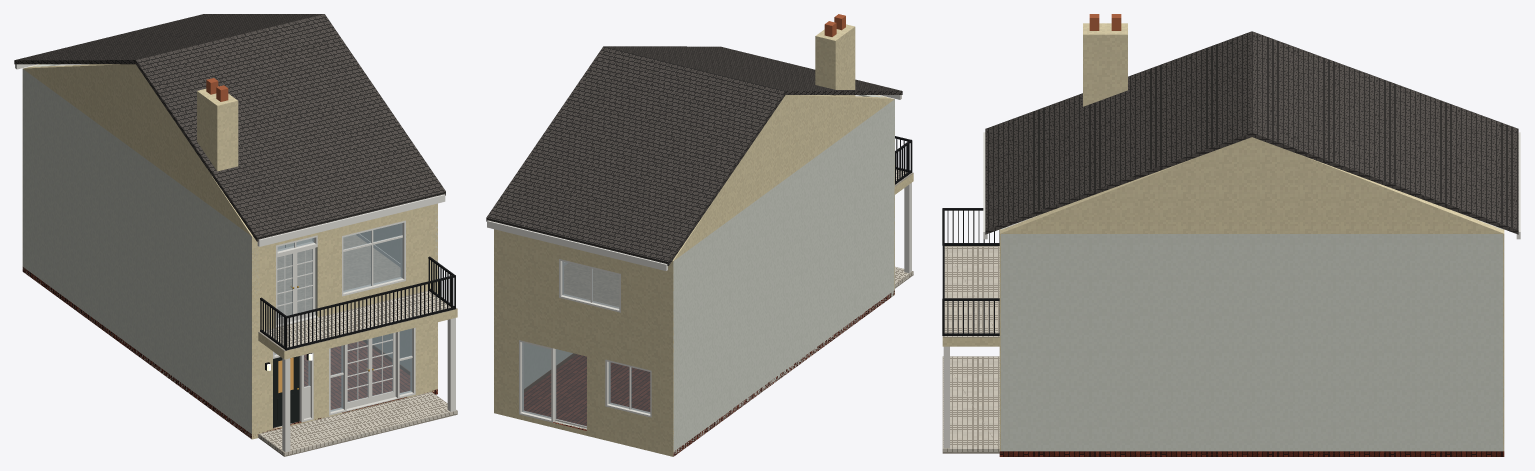
File: shenton_house.glb
The picture shows the model from 3 angles, left to right: view 1: azimuth 30°, elevation 25°; view 2: azimuth 150°, elevation 25°; view 3: azimuth 270°, elevation 25°; orthographic projection. The views are drawn at different scales.
Visible parts, largest first — view 1: House-col, House_Roof, House, House_Glass, Door_French_R, Door_French_L, Door_Balcony_R, Door_Front, Door_Balcony_L; view 2: House-col, House_Roof, House_Glass, House, Door_Sliding; view 3: House-col, House_Roof, House.
Boxes of the visible parts, left/top/right/bottom form: House-col: left=22, top=64, right=457, bottom=456; House_Roof: left=14, top=14, right=445, bottom=246; House: left=55, top=64, right=455, bottom=421; House_Glass: left=274, top=223, right=412, bottom=411; Door_French_R: left=370, top=332, right=395, bottom=402; Door_French_L: left=346, top=338, right=370, bottom=408; Door_Balcony_R: left=295, top=248, right=315, bottom=320; Door_Front: left=273, top=356, right=299, bottom=427; Door_Balcony_L: left=276, top=252, right=294, bottom=325; House-col: left=494, top=95, right=913, bottom=456; House_Roof: left=486, top=14, right=902, bottom=270; House_Glass: left=522, top=261, right=650, bottom=418; House: left=519, top=95, right=912, bottom=422; Door_Sliding: left=555, top=349, right=586, bottom=428; House-col: left=942, top=208, right=1504, bottom=456; House_Roof: left=983, top=14, right=1520, bottom=239; House: left=942, top=208, right=1495, bottom=336.
Size of what is drawn, in the model's own units: 5.9 by 9.45 by 14.21.
23 materials, 9 textured.
